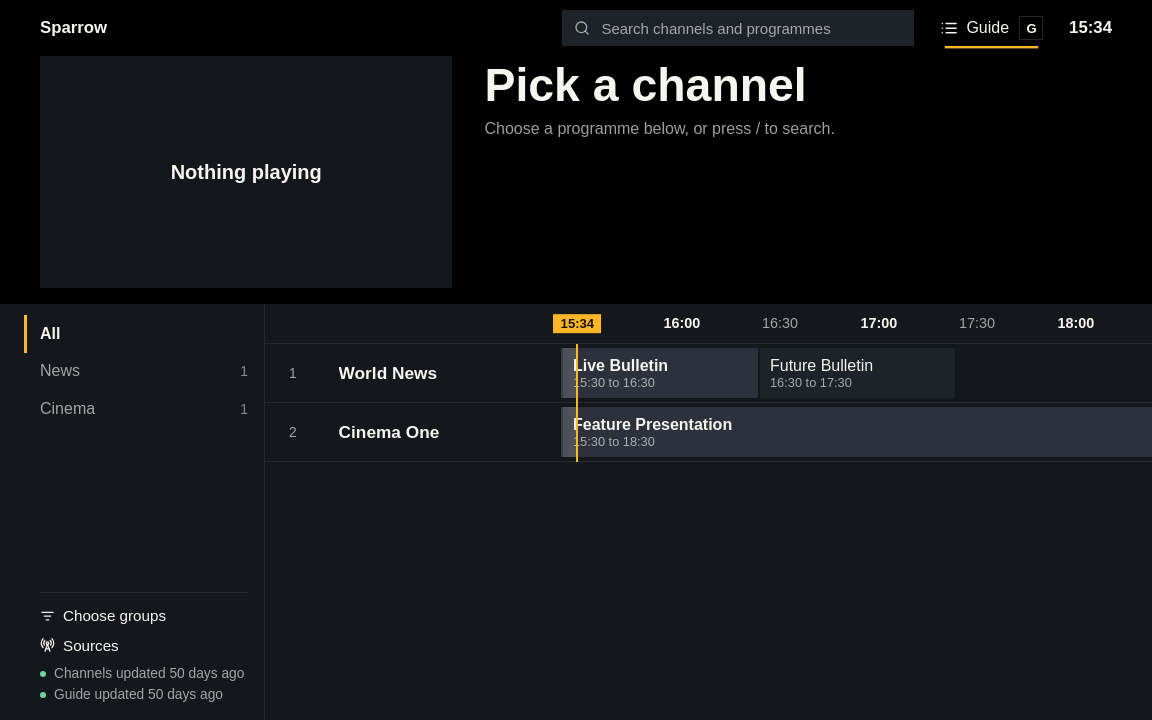
CatalogBrowser shell › keeps hosted Sources read-only and free of source-location controls
Click the button "Sources".
click(79, 645)  # box 40,633 -> 119,657
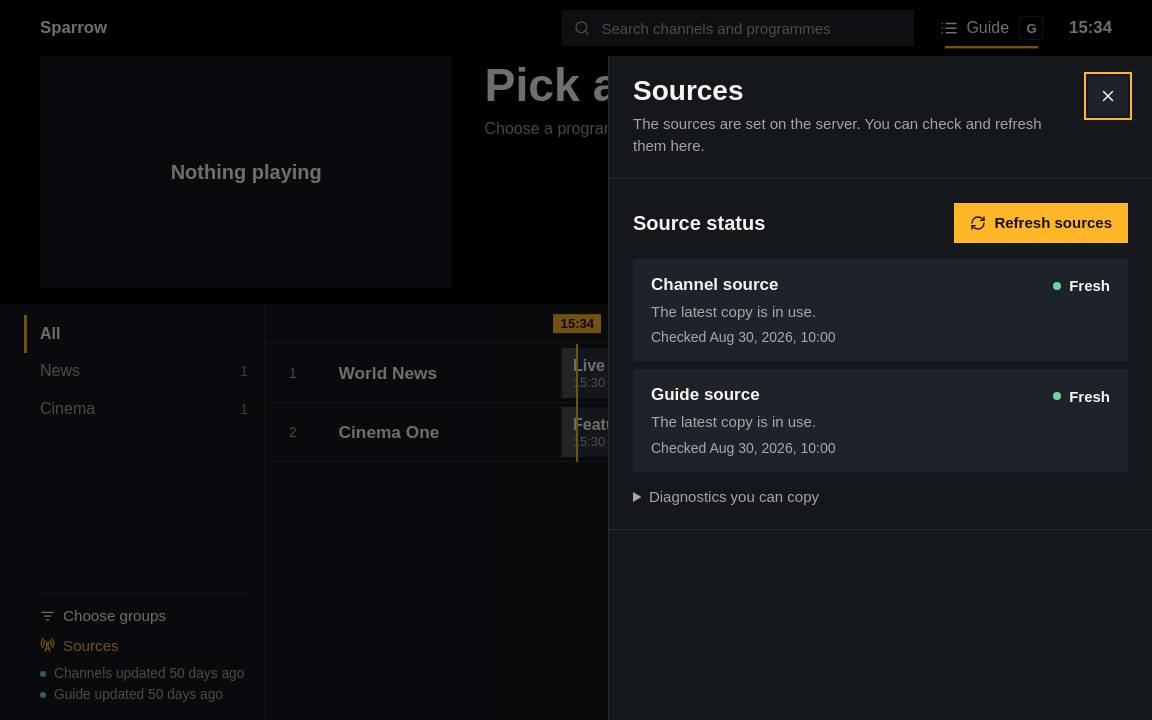
Now the text "sources are set on the server" is shown, box 633,115 -> 1042,154
